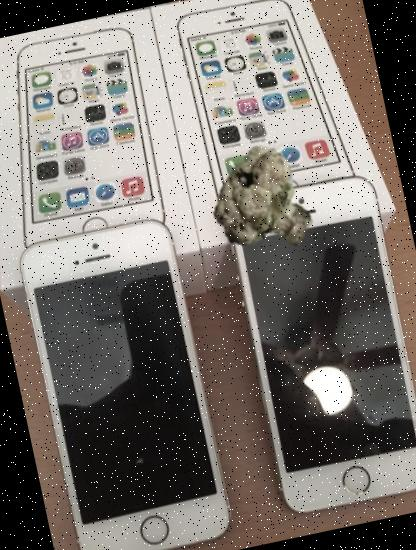Cauliflower: (204, 142, 331, 269)
